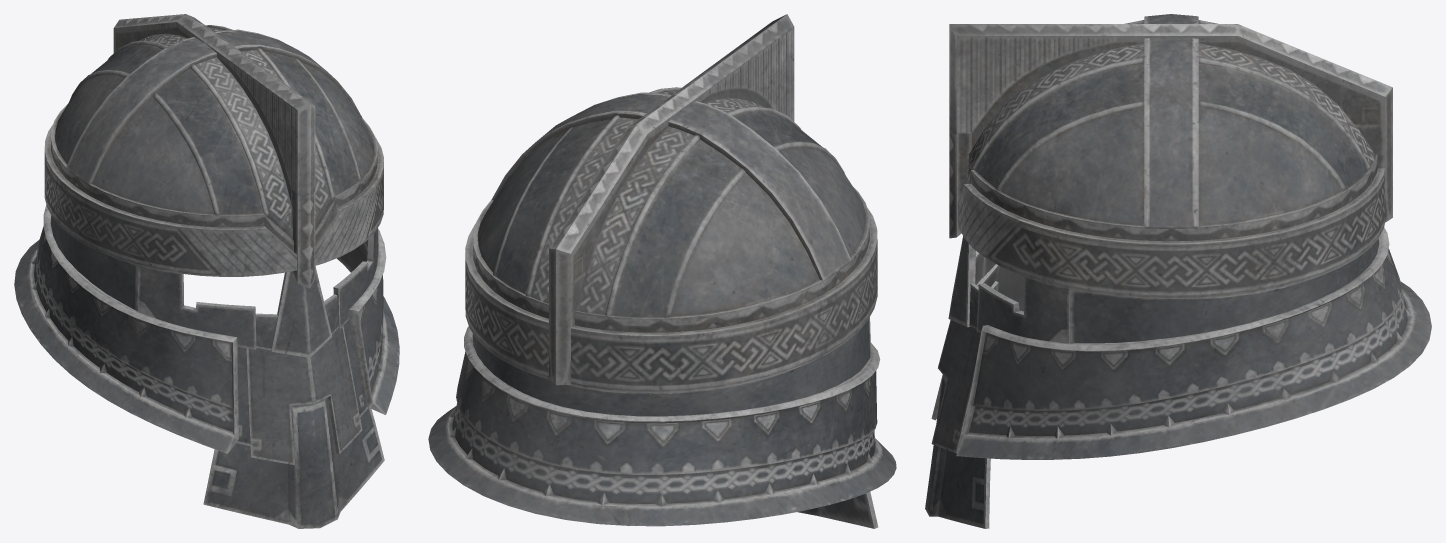
The model's file is sk_dwarf_erebor_helmet_plate_elite_b.fbx.
3 renders of one model, left to right at view 1: azimuth 30°, elevation 25°; view 2: azimuth 150°, elevation 25°; view 3: azimuth 270°, elevation 25°, orthographic. The views are drawn at different scales.
Visible parts, largest first — view 1: sk_dwarf_erebor_helmet_plate_elite_b; view 2: sk_dwarf_erebor_helmet_plate_elite_b; view 3: sk_dwarf_erebor_helmet_plate_elite_b.
Part boxes in pixels (x1=…): sk_dwarf_erebor_helmet_plate_elite_b: x1=14, y1=14, x2=399, y2=528; sk_dwarf_erebor_helmet_plate_elite_b: x1=428, y1=14, x2=896, y2=528; sk_dwarf_erebor_helmet_plate_elite_b: x1=925, y1=14, x2=1431, y2=528.
Bounding box in the file's own units: 0.2865 × 0.3381 × 0.357.
Materials: 1 (1 with a texture image).
